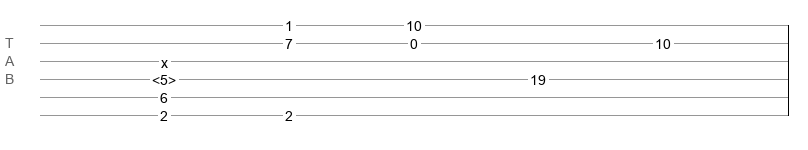0: (410, 36, 418, 46)
1: (285, 18, 293, 28)
10: (406, 18, 422, 28), (655, 36, 671, 46)
19: (530, 72, 546, 82)
2: (160, 108, 168, 118), (285, 108, 293, 118)
6: (160, 90, 168, 100)
7: (285, 36, 293, 46)
harmonic: (152, 72, 176, 82)
x: (161, 55, 168, 63)
